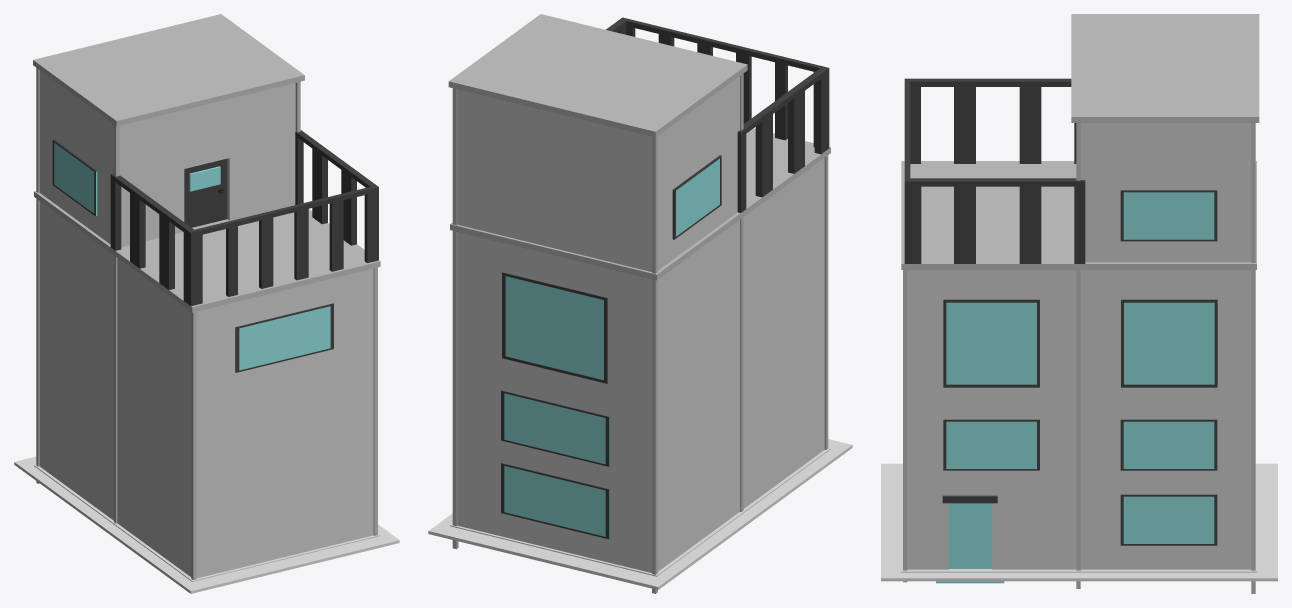
File: SmallBuilding3.fbx
3 views of the same model, side by side, from view 1: azimuth 30°, elevation 25°; view 2: azimuth 150°, elevation 25°; view 3: azimuth 270°, elevation 25° (orthographic). The views are drawn at different scales.
Visible parts, largest first — view 1: Cube.001, Cube.010, Cube.011, Cube.008, Cube, Cube.033, Cube.036, Cube.031, Cube.005, Cube.007, Cube.006, Cube.002 (+3 smaller); view 2: Cube.001, Cube.010, Cube.011, Cube.027, Cube, Cube.025, Cube.023, Cube.008, Cube.004, Cube.007, Cube.031, Cube.005 (+6 smaller); view 3: Cube.001, Cube.010, Cube.008, Cube.011, Cube, Cube.013, Cube.015, Cube.029, Cube.019, Cube.021, Cube.017, Cube.035 (+10 smaller).
Part boxes in pixels (x1,y1,x2,y2): Cube.001: [39, 70, 373, 578]; Cube.010: [33, 14, 304, 126]; Cube.011: [110, 130, 378, 306]; Cube.008: [34, 191, 380, 312]; Cube: [14, 456, 399, 593]; Cube.033: [239, 306, 330, 370]; Cube.036: [184, 158, 227, 227]; Cube.031: [54, 143, 97, 215]; Cube.005: [191, 311, 196, 579]; Cube.007: [36, 68, 39, 483]; Cube.006: [114, 125, 119, 523]; Cube.002: [373, 267, 377, 535]; Cube.001: [457, 76, 824, 572]; Cube.010: [448, 14, 747, 137]; Cube.011: [606, 17, 829, 212]; Cube.027: [505, 276, 603, 379]; Cube: [428, 439, 852, 589]; Cube.025: [504, 393, 609, 466]; Cube.023: [504, 466, 609, 538]; Cube.008: [450, 128, 830, 280]; Cube.004: [452, 88, 458, 549]; Cube.007: [652, 136, 657, 593]; Cube.031: [676, 158, 719, 236]; Cube.005: [824, 155, 828, 449]; Cube.001: [907, 123, 1251, 569]; Cube.010: [1071, 14, 1259, 122]; Cube.008: [901, 161, 1256, 269]; Cube.011: [904, 78, 1085, 263]; Cube: [881, 463, 1277, 581]; Cube.013: [946, 302, 1036, 384]; Cube.015: [1124, 302, 1214, 384]; Cube.029: [1123, 191, 1217, 240]; Cube.019: [1123, 420, 1217, 469]; Cube.021: [1123, 495, 1217, 544]; Cube.017: [946, 421, 1036, 468]; Cube.035: [936, 503, 1004, 583].
Bounding box in the file's own units: 2538 × 4936 × 3715.
